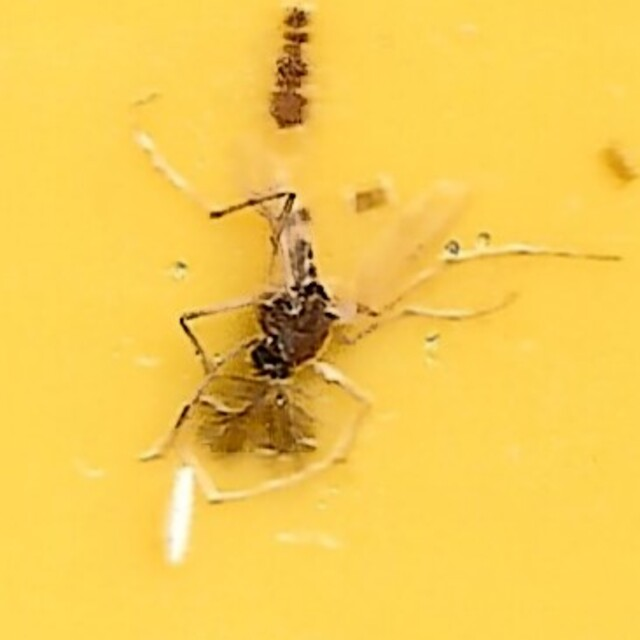Nematocera: (175, 184, 465, 456)
